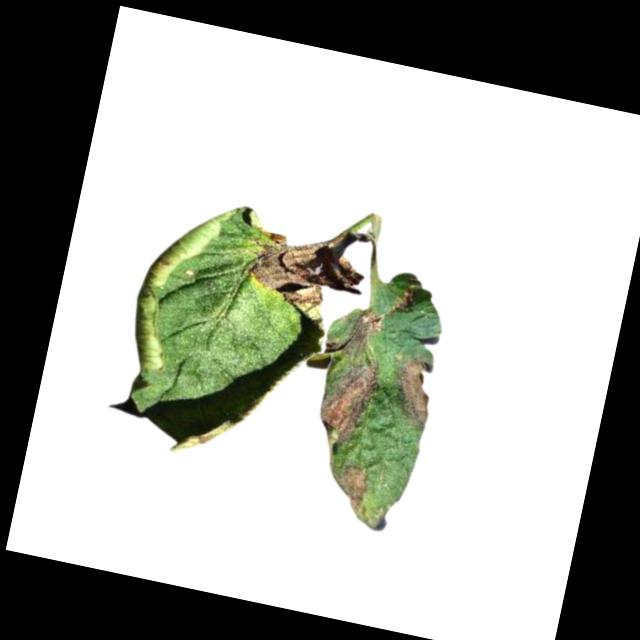Late_blight: (239, 230, 368, 321), (311, 352, 383, 458), (385, 353, 440, 431), (323, 300, 385, 363), (321, 462, 371, 516), (384, 282, 419, 319)
